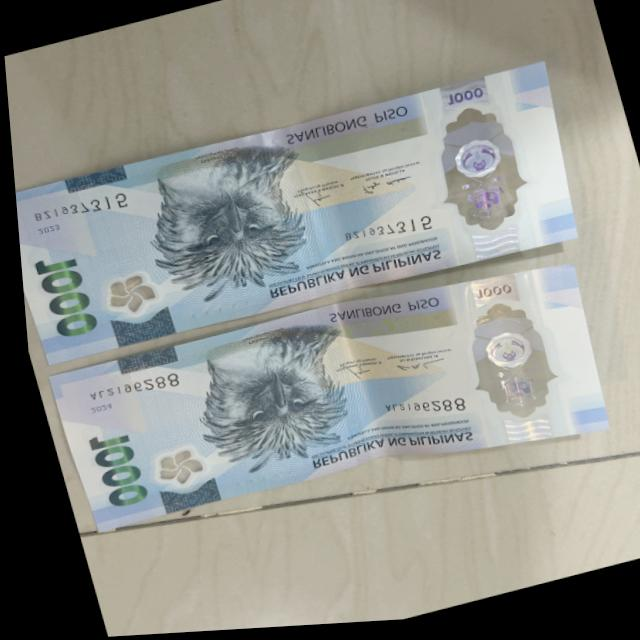clear_window: (407, 87, 539, 261), (448, 289, 574, 453)
eagle: (126, 138, 310, 319), (169, 323, 365, 491)
sampaguita: (85, 273, 159, 326), (145, 446, 201, 492)
serial_number: (326, 205, 444, 267), (17, 177, 138, 237)
